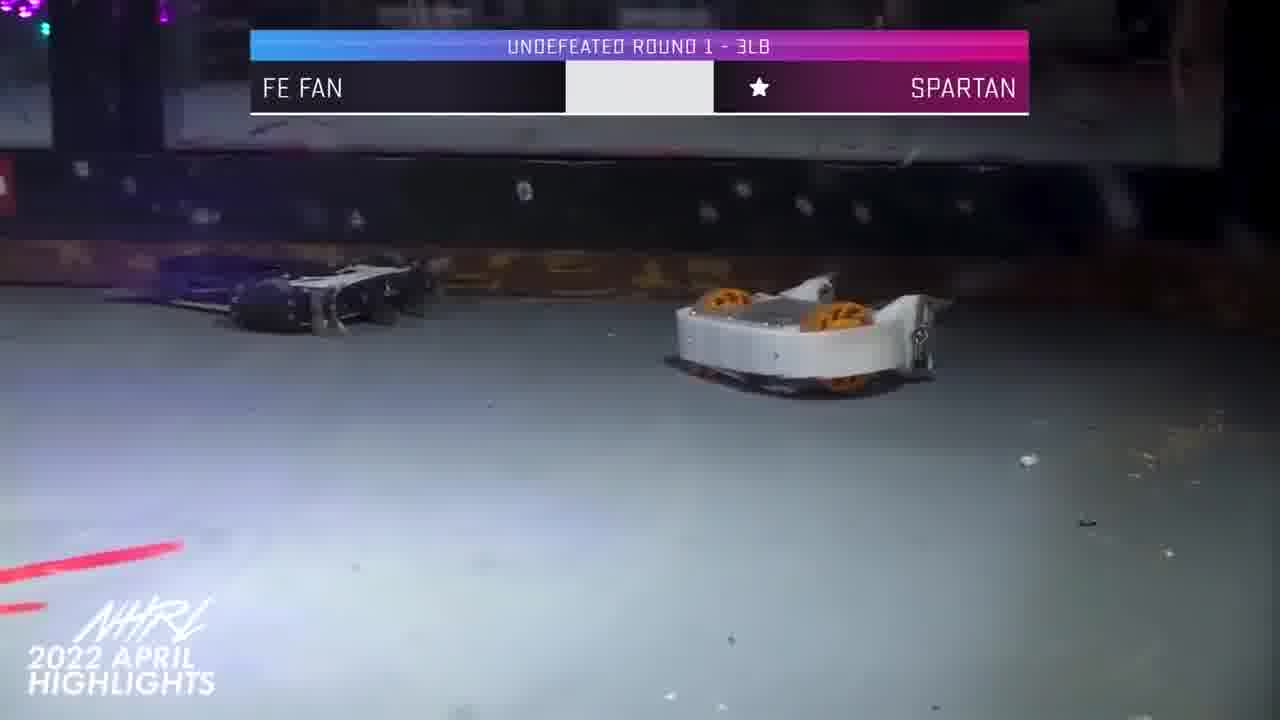combatbot: (673, 270, 950, 398), (99, 251, 442, 339)
